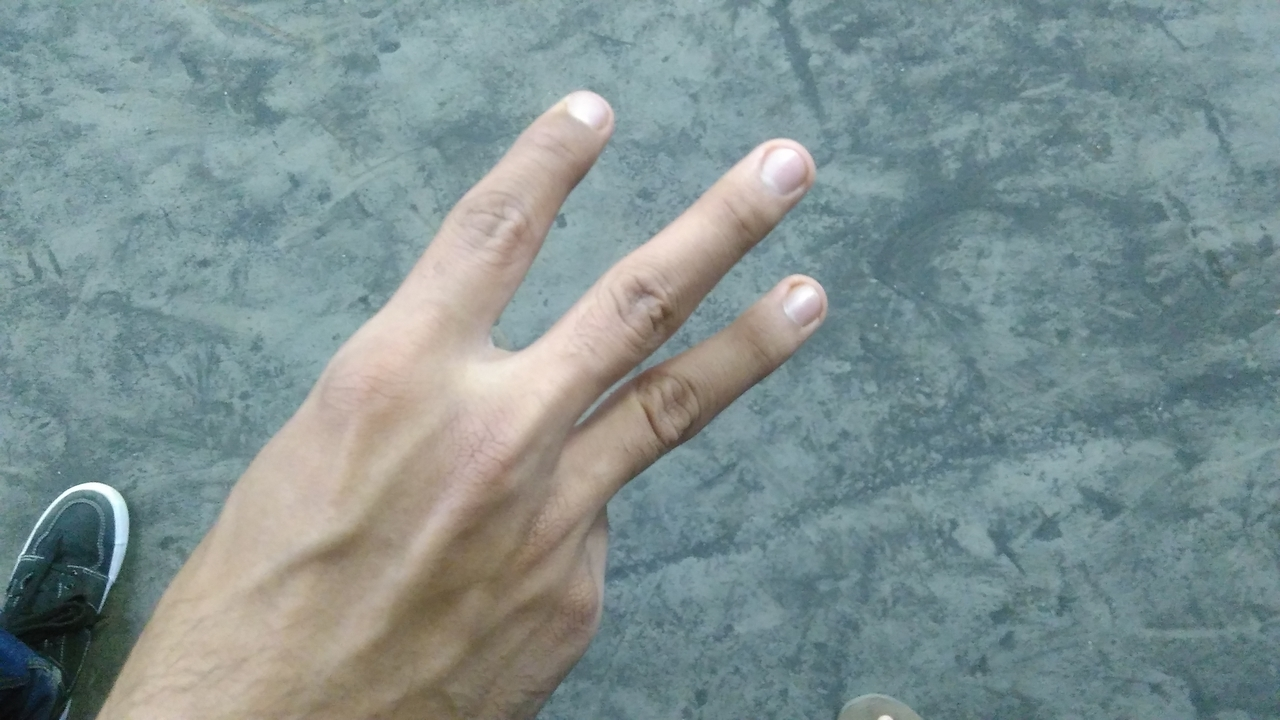fingertip: (748, 128, 828, 198), (760, 264, 838, 330), (550, 82, 622, 142)
